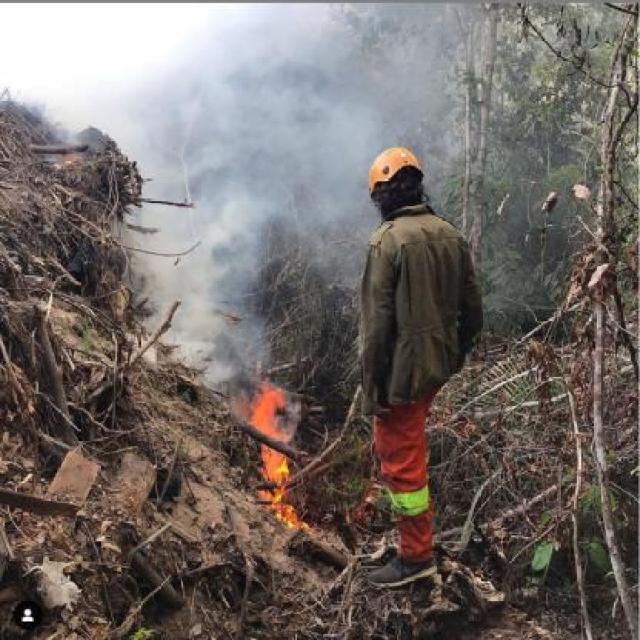Fire: (240, 385, 305, 535)
